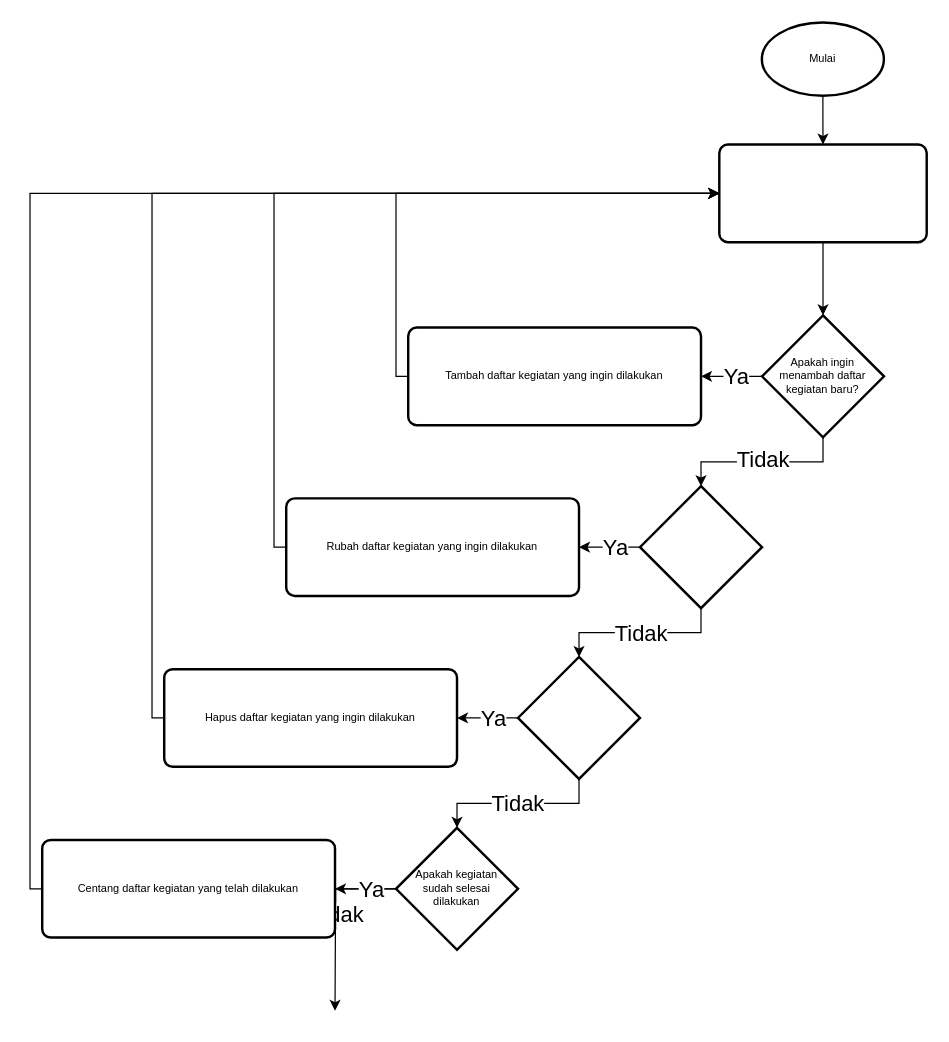
Image size: 949x1042. Some labels were removed from this diagram. Each missing label, with the centre of its shape:
Apakah ingin melakukan perubahan pada kegiatan?: the point at 700,546
Apakah ingin menghapus kegiatan?: the point at 578,717
Menampilkan daftar kegiatan: the point at 822,193
